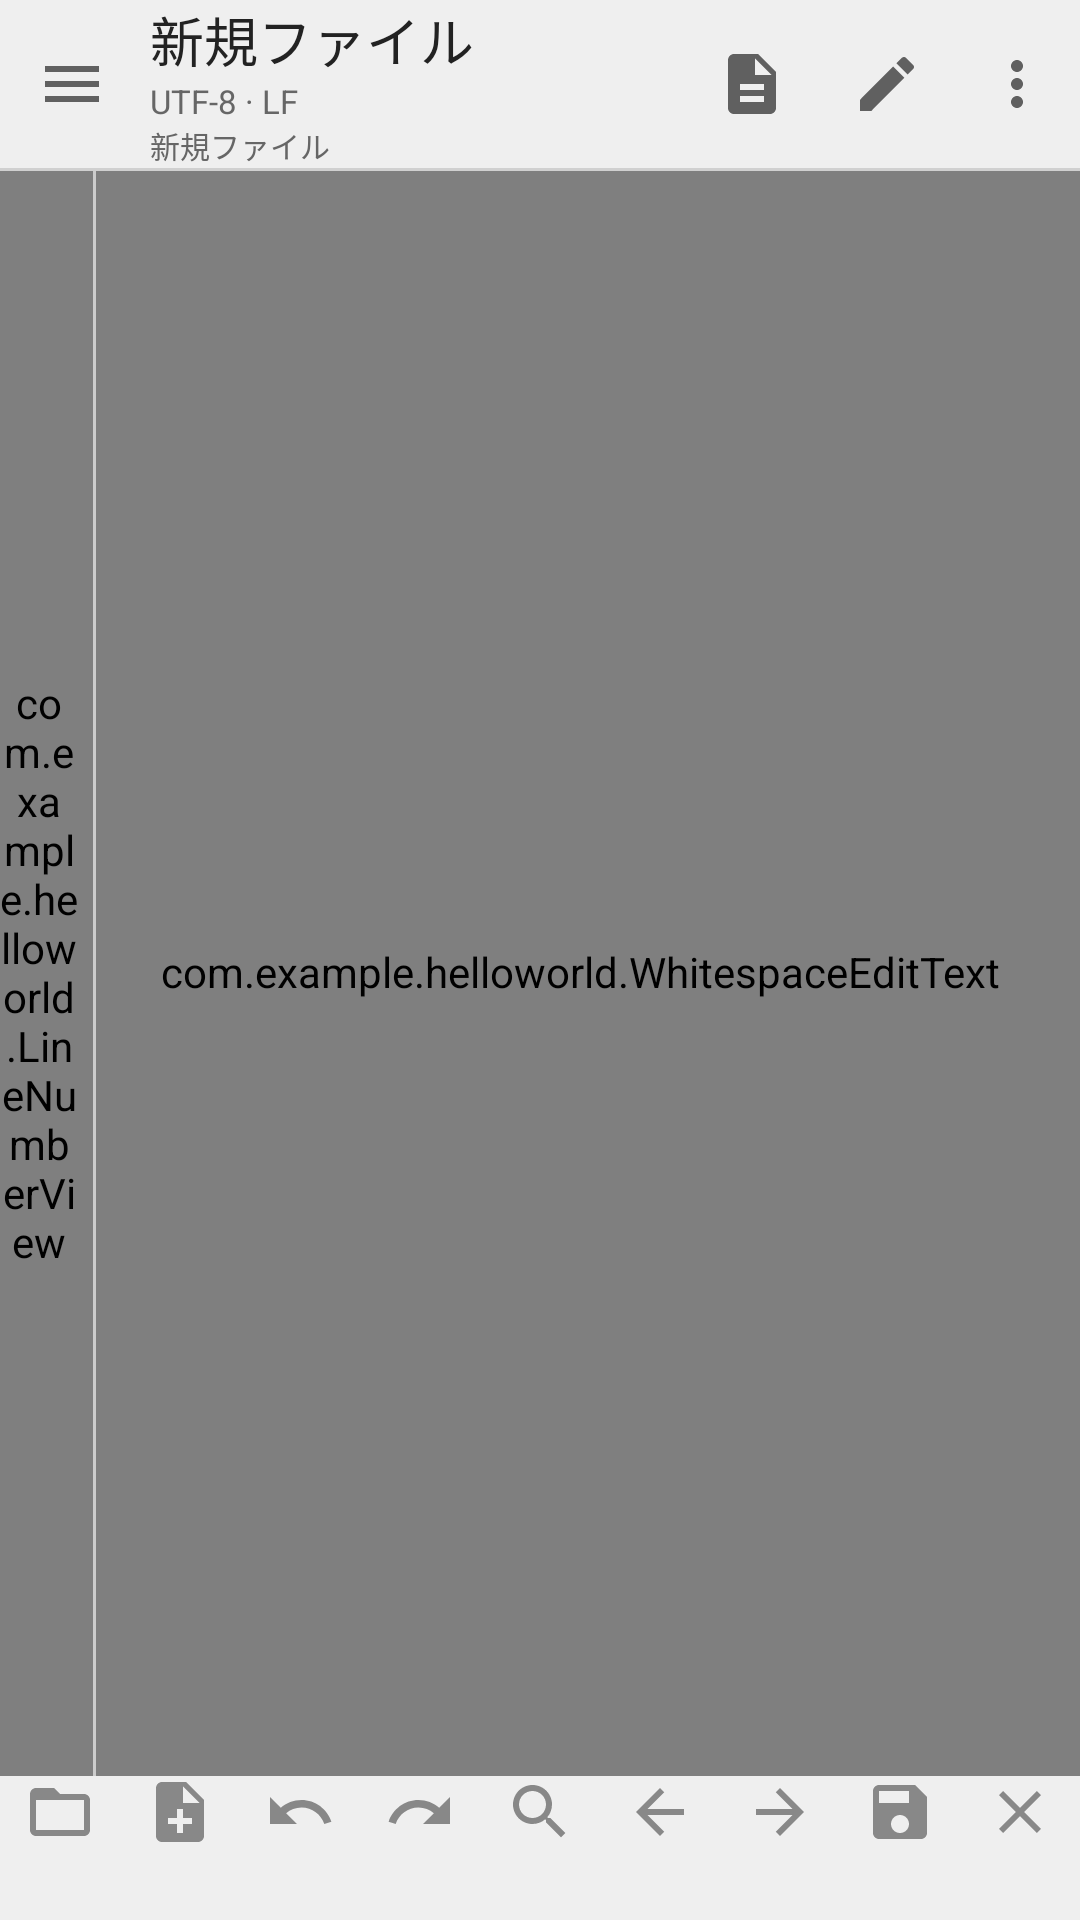

Point at icon controls on the screen. Image size 1080 × 1920, points as (x,y).
その他: (1017,84)
メニュー: (72,84)
編集: (887,84)
